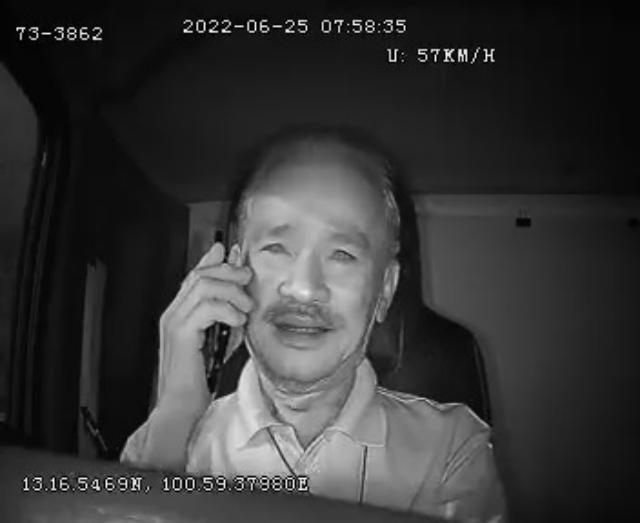PhoneUse: (198, 226, 232, 398)
SafeDriving: (320, 234, 365, 272), (252, 227, 297, 264)
